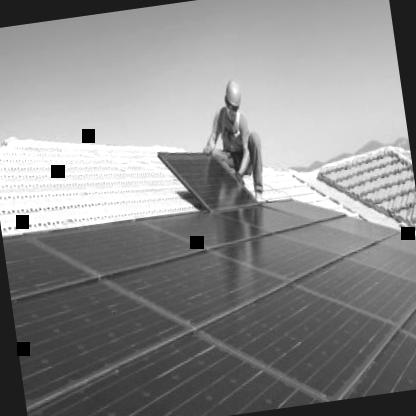helmet: (217, 70, 248, 120)
